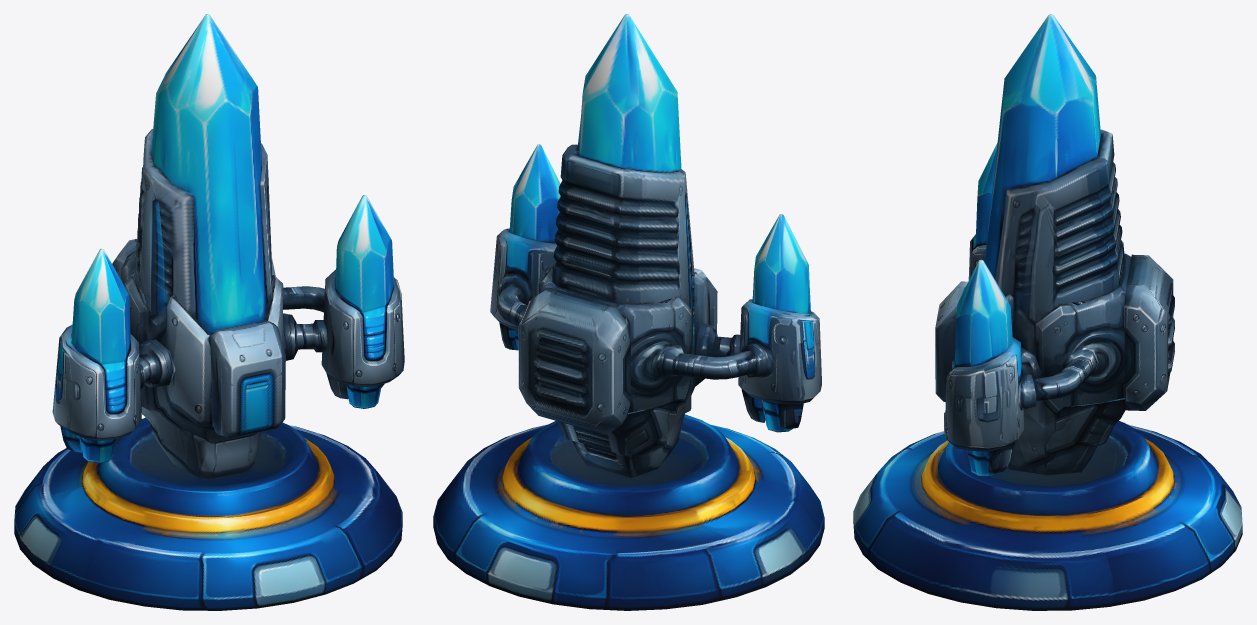
The picture shows the model from 3 angles, left to right: view 1: azimuth 30°, elevation 25°; view 2: azimuth 150°, elevation 25°; view 3: azimuth 270°, elevation 25°; orthographic projection.
Visible parts, largest first — view 1: TurretHead, TurretBase; view 2: TurretHead, TurretBase; view 3: TurretHead, TurretBase.
Boxes of the visible parts, x1,y1,x2,y2 form: TurretHead: (52,14,404,463); TurretBase: (14,417,402,610); TurretHead: (490,14,821,457); TurretBase: (433,414,824,610); TurretHead: (935,14,1174,476); TurretBase: (853,421,1242,610).
Bounding box in the file's own units: 172 × 171 × 250.
1 material, 1 textured.
